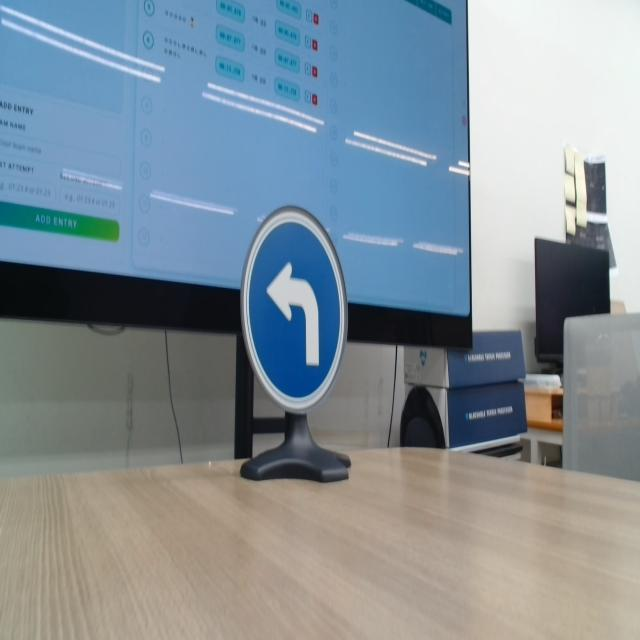left_direction: (239, 184, 376, 430)
